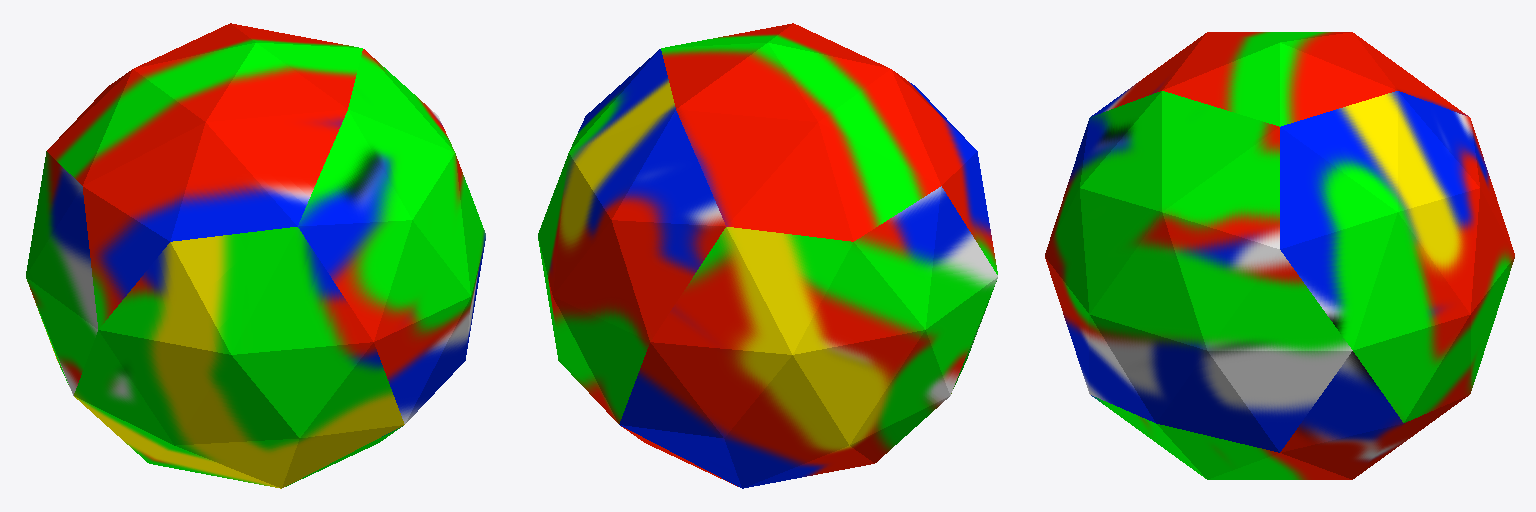
3 views of the same model, side by side, from view 1: azimuth 30°, elevation 25°; view 2: azimuth 150°, elevation 25°; view 3: azimuth 270°, elevation 25° (orthographic).
Parts seen in each view (by area): view 1: ICO球; view 2: ICO球; view 3: ICO球.
Boxes of the visible parts, x1,y1,x2,y2 form: ICO球: [26, 23, 485, 488]; ICO球: [538, 23, 997, 488]; ICO球: [1045, 32, 1514, 479].
Bounding box in the file's own units: 1.9 × 2 × 2.
Materials: 1 (1 with a texture image).